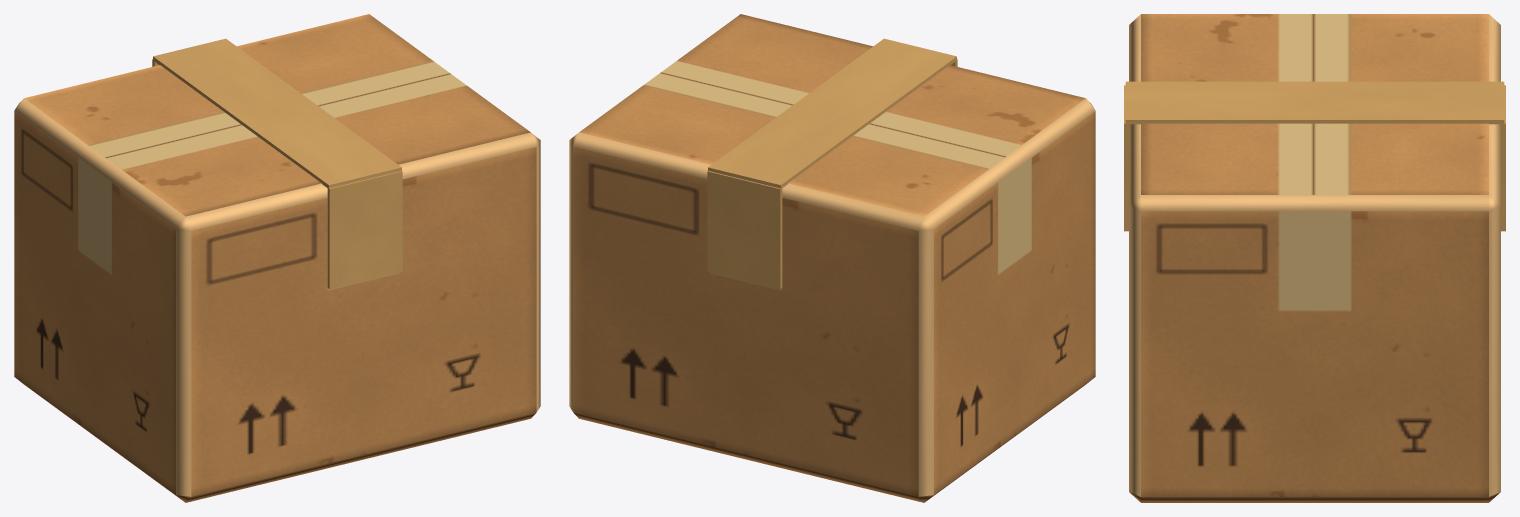
The model's file is Crate_Small2.fbx.
3 views of the same model, side by side, from view 1: azimuth 30°, elevation 25°; view 2: azimuth 150°, elevation 25°; view 3: azimuth 270°, elevation 25° (orthographic). The views are drawn at different scales.
Visible parts, largest first — view 1: Crate_Small2_Body; view 2: Crate_Small2_Body; view 3: Crate_Small2_Body.
Part boxes in pixels (left/top/right/bottom): Crate_Small2_Body: left=14, top=14, right=540, bottom=502; Crate_Small2_Body: left=569, top=14, right=1095, bottom=502; Crate_Small2_Body: left=1124, top=14, right=1505, bottom=502.
Bounding box in the file's own units: 0.56 × 0.425 × 0.472.
1 material, 1 textured.
